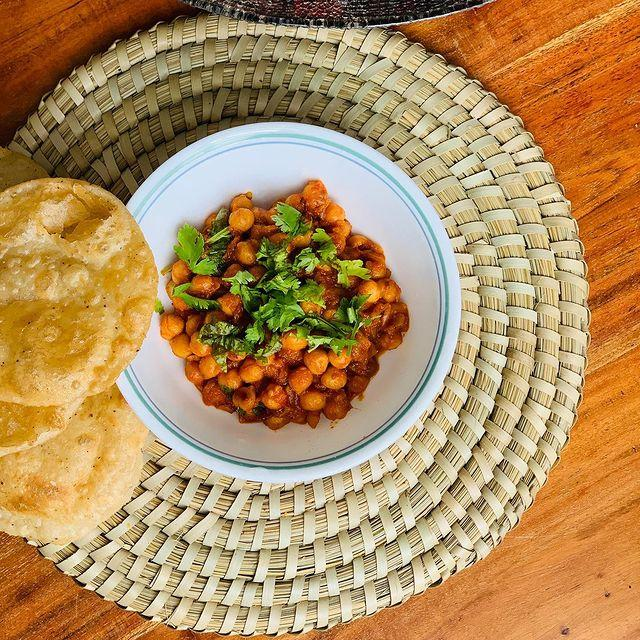Chole: (160, 194, 414, 424)
